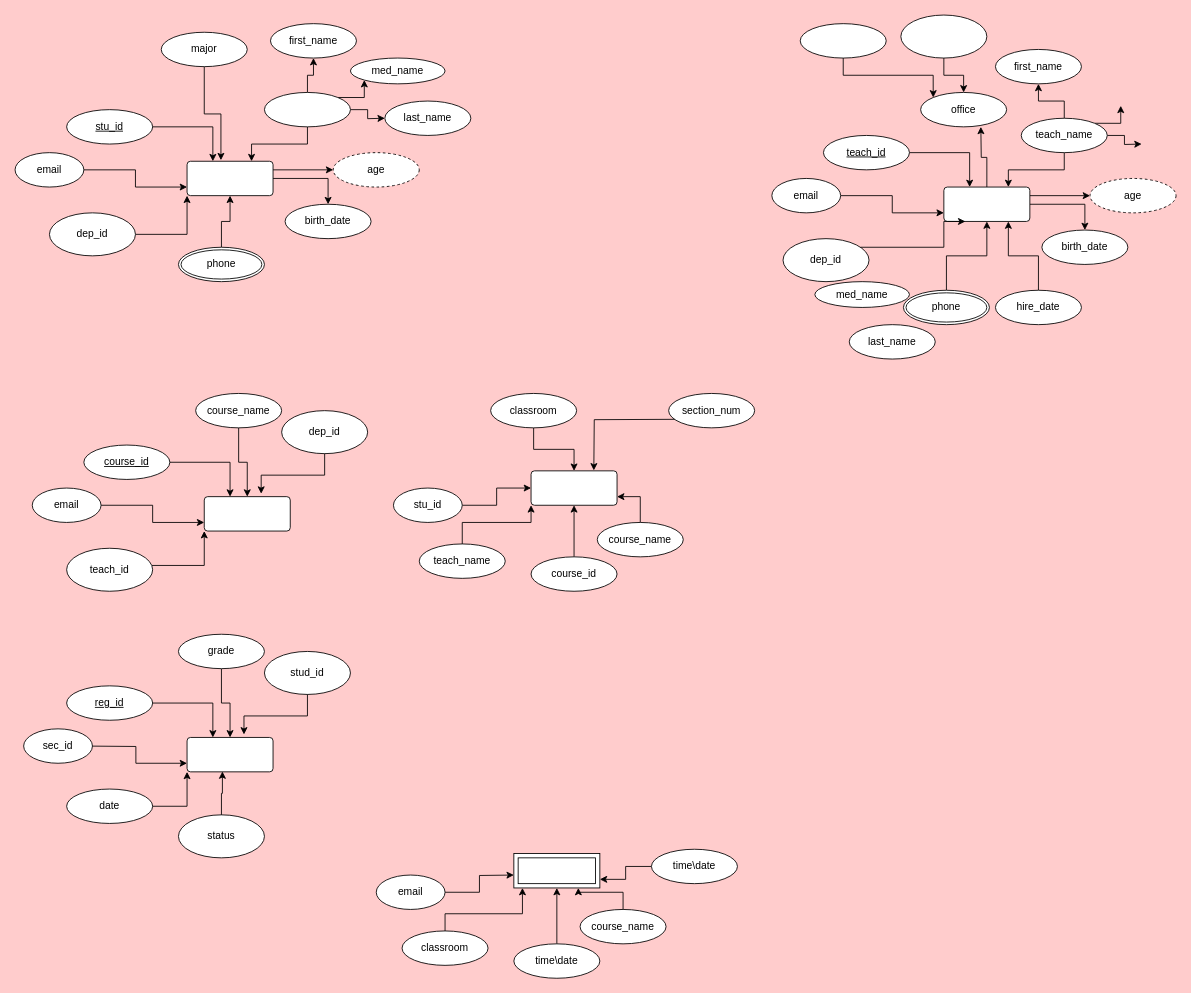
Some shapes in this 1191 by 993 pixel diagram are drawn without their labels. The shapes that lost their labels are listed below. From the top down, each one's box as (x1, y1, x2, y2) in pixels, then its label:
(799, 23, 886, 58): office_num
(900, 14, 987, 58): office_hour
(264, 92, 350, 127): stud_name
(186, 160, 273, 196): student
(943, 186, 1030, 221): Teacher
(530, 470, 617, 505): table
(203, 496, 290, 531): course
(186, 737, 273, 772): registration
(513, 853, 600, 888): section
